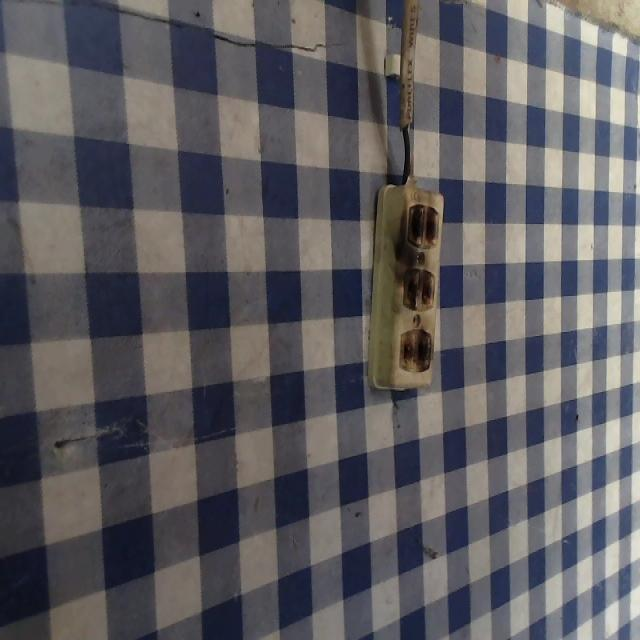-: (390, 316, 433, 377), (399, 190, 440, 250), (395, 266, 438, 314)
